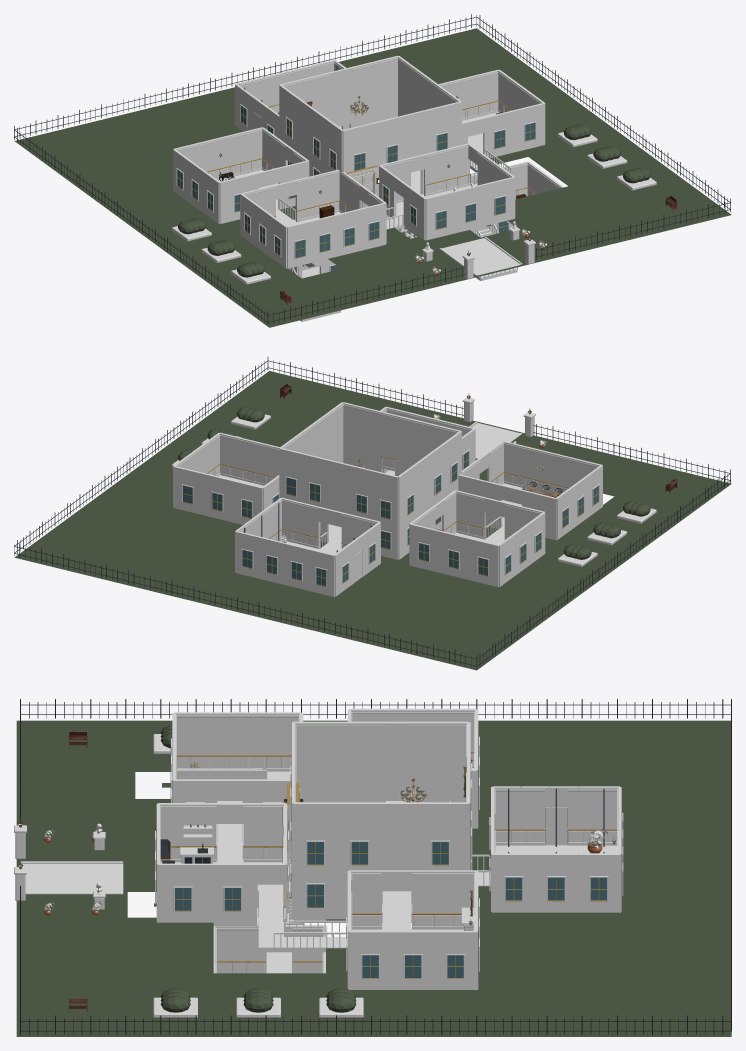
Rendered from Mansion_VisualGold.fbx.
3 renders of one model, top to bottom at view 1: azimuth 30°, elevation 25°; view 2: azimuth 150°, elevation 25°; view 3: azimuth 270°, elevation 25°, orthographic. The views are drawn at different scales.
Parts seen in each view (by area): view 1: VG_EstateGround_WithGameplayVoids, VG_EstateFence, R04_Wall_South_Pier_00, R05_Wall_South_Pier_00, R01_Wall_North_Pier_02, R01_Wall_South_Pier_00, R02_Wall_North_Pier_00, R03_Wall_South_Pier_02, R02_Wall_West_Pier_00, R04_Wall_West_Pier_00, R01_Wall_South_Pier_02, R01_Wall_West_Pier_00 (+28 smaller); view 2: VG_EstateGround_WithGameplayVoids, VG_EstateFence, R06_Wall_North_Pier_00, R02_Wall_North_Pier_00, R03_Wall_North_Pier_00, R04_Wall_South_Pier_00, R01_Wall_North_Pier_00, R01_Wall_South_Pier_02, R01_Wall_North_Pier_02, R01_Wall_South_Pier_00, R03_Wall_South_Pier_02, R04_Wall_West_Pier_00 (+25 smaller); view 3: VG_EstateGround_WithGameplayVoids, R01_Wall_East_Pier_00, VG_EstateFence, R01_Wall_West_Pier_00, R06_Wall_East_Pier_00, R03_Wall_East_Pier_00, R04_Wall_West_Pier_00, R05_Wall_East_Pier_00, R01_Wall_West_Pier_02, R01_Wall_East_Pier_02, VG_EstateDriveway, R03_Wall_West_Pier_02 (+39 smaller).
Part boxes in pixels (x1,y1,x2,y2): VG_EstateGround_WithGameplayVoids: [14, 28, 731, 327]; VG_EstateFence: [14, 14, 730, 324]; R04_Wall_South_Pier_00: [287, 202, 385, 268]; R05_Wall_South_Pier_00: [425, 177, 514, 240]; R01_Wall_North_Pier_02: [350, 55, 398, 127]; R01_Wall_South_Pier_00: [342, 114, 408, 196]; R02_Wall_North_Pier_00: [174, 127, 262, 177]; R03_Wall_South_Pier_02: [483, 103, 544, 158]; R02_Wall_West_Pier_00: [173, 149, 219, 223]; R04_Wall_West_Pier_00: [240, 194, 287, 268]; R01_Wall_South_Pier_02: [421, 102, 461, 194]; R01_Wall_West_Pier_00: [309, 106, 343, 176]; VG_EstateGround_WithGameplayVoids: [14, 371, 731, 670]; VG_EstateFence: [14, 357, 730, 668]; R06_Wall_North_Pier_00: [235, 531, 334, 596]; R02_Wall_North_Pier_00: [409, 523, 498, 586]; R03_Wall_North_Pier_00: [173, 466, 262, 524]; R04_Wall_South_Pier_00: [504, 441, 602, 488]; R01_Wall_North_Pier_00: [350, 465, 398, 559]; R01_Wall_South_Pier_02: [343, 402, 381, 472]; R01_Wall_North_Pier_02: [279, 448, 327, 542]; R01_Wall_South_Pier_00: [395, 415, 461, 476]; R03_Wall_South_Pier_02: [220, 432, 279, 483]; R04_Wall_West_Pier_00: [556, 465, 602, 539]; VG_EstateGround_WithGameplayVoids: [16, 720, 731, 1036]; R01_Wall_East_Pier_00: [293, 802, 381, 919]; VG_EstateFence: [20, 699, 731, 1034]; R01_Wall_West_Pier_00: [293, 721, 384, 802]; R06_Wall_East_Pier_00: [492, 853, 619, 912]; R03_Wall_East_Pier_00: [349, 931, 476, 989]; R04_Wall_West_Pier_00: [174, 712, 301, 768]; R05_Wall_East_Pier_00: [158, 863, 257, 922]; R01_Wall_West_Pier_02: [409, 721, 468, 802]; R01_Wall_East_Pier_02: [412, 802, 468, 870]; VG_EstateDriveway: [20, 863, 123, 892]; R03_Wall_West_Pier_02: [412, 870, 476, 929].
Size of what is drawn, in the model's own units: 4706 by 1232 by 4509.
